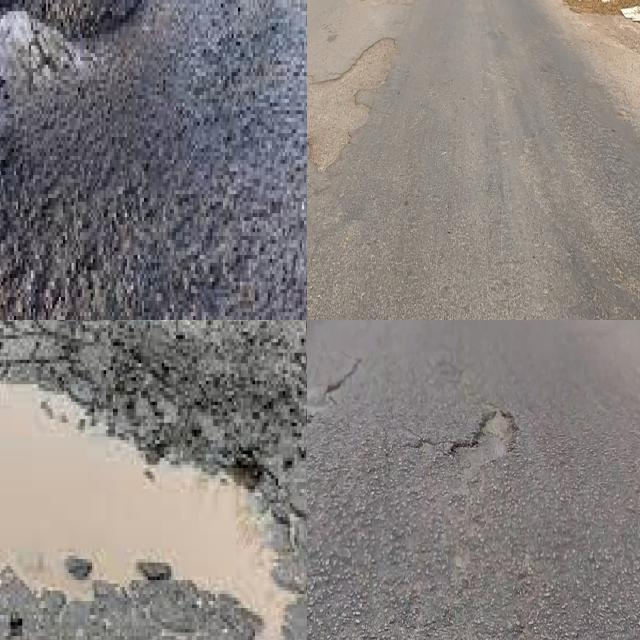Pothole: (0, 385, 297, 640), (307, 38, 395, 171), (447, 405, 521, 474), (359, 0, 417, 7)
